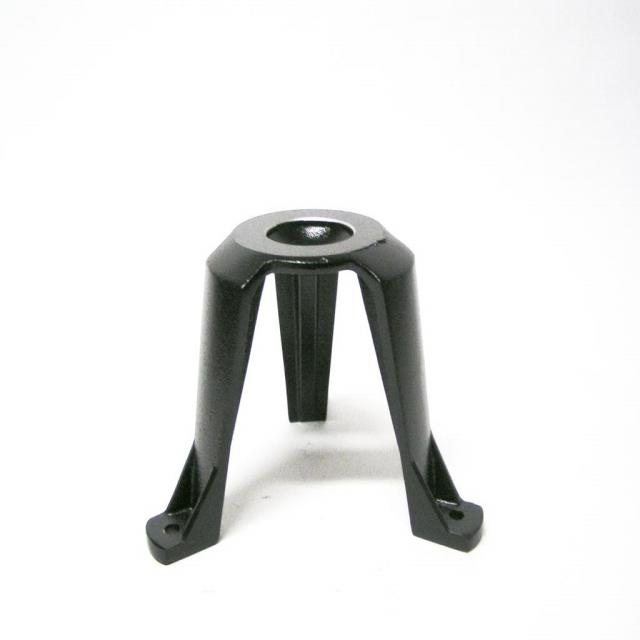table: (138, 192, 486, 572)
